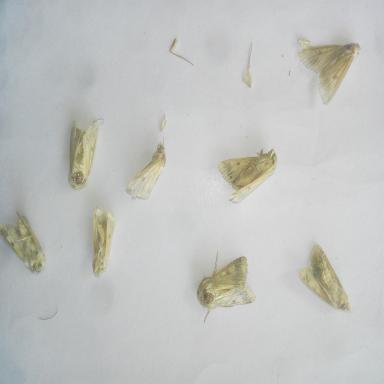abw: (195, 248, 260, 324), (297, 38, 362, 107), (297, 242, 354, 314), (216, 144, 281, 206), (0, 208, 48, 277), (122, 134, 169, 202), (65, 115, 105, 193), (86, 206, 119, 281)
